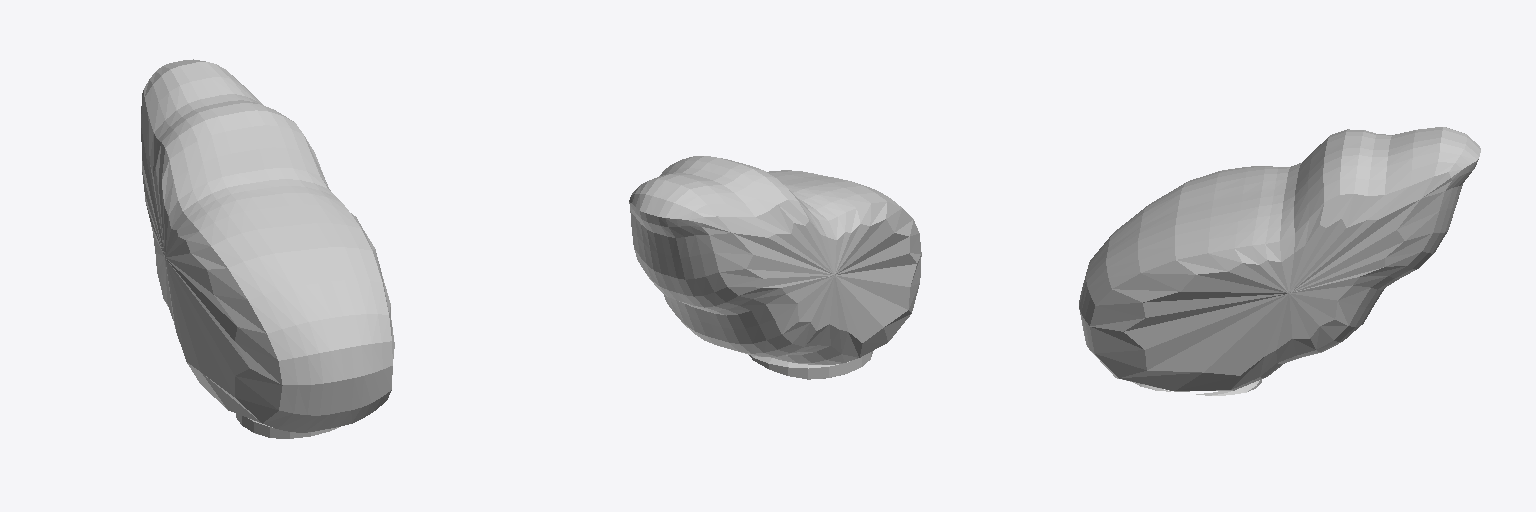
The model's file is statua_fuoco.obj.
The picture shows the model from 3 angles: view 1: azimuth 30°, elevation 25°; view 2: azimuth 150°, elevation 25°; view 3: azimuth 270°, elevation 25°; orthographic projection.
Parts seen in each view (by area): view 1: statue.002_statue.004; view 2: statue.002_statue.004; view 3: statue.002_statue.004.
Part boxes in pixels (x1,y1,x2,y2): statue.002_statue.004: (141,59,394,438); statue.002_statue.004: (629,156,921,379); statue.002_statue.004: (1079,127,1480,395).
Size of the model in its own units: 0.0447 by 0.0649 by 0.0914.